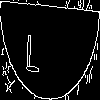L: (25, 24, 41, 73)
